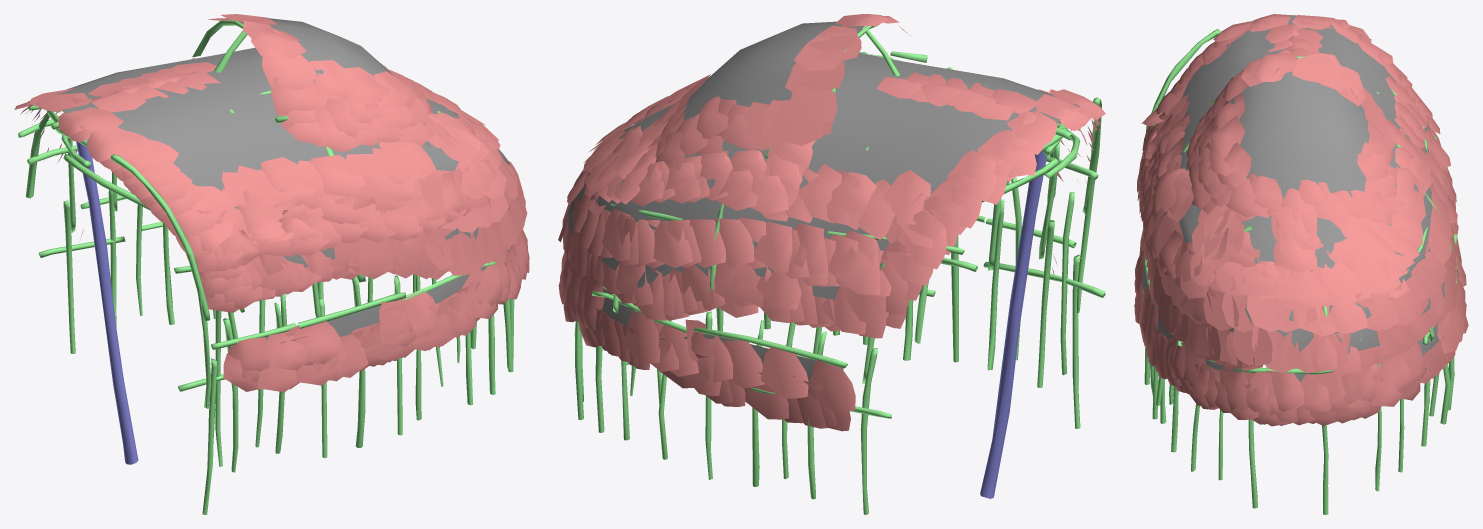
File: SM_village_hut_medium_A.gltf
3 renders of one model, left to right at view 1: azimuth 30°, elevation 25°; view 2: azimuth 150°, elevation 25°; view 3: azimuth 270°, elevation 25°, orthographic. The views are drawn at different scales.
Parts seen in each view (by area): view 1: SM_village_hut_medium_A; view 2: SM_village_hut_medium_A; view 3: SM_village_hut_medium_A.
Boxes of the visible parts, box(x1,y1,x2,y2) form: SM_village_hut_medium_A: box(14, 14, 529, 514); SM_village_hut_medium_A: box(558, 14, 1105, 514); SM_village_hut_medium_A: box(1134, 14, 1468, 514).
Size of the model in its own units: 13.17 by 11.25 by 9.3.
